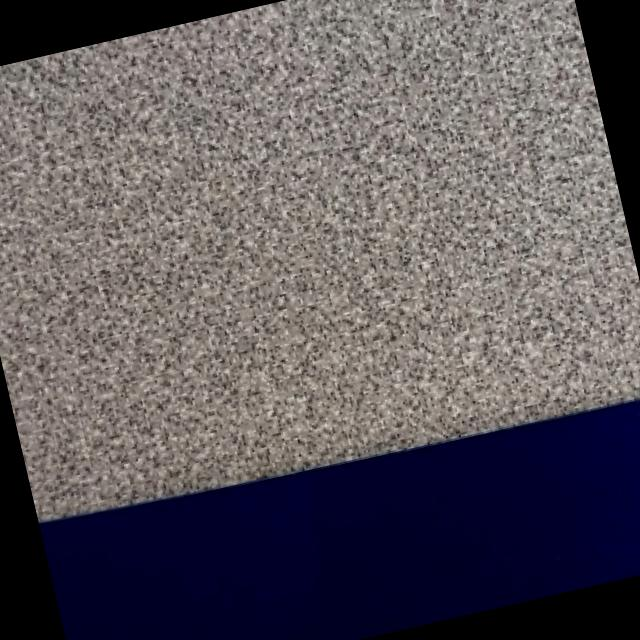healthy: (0, 0, 640, 516)
